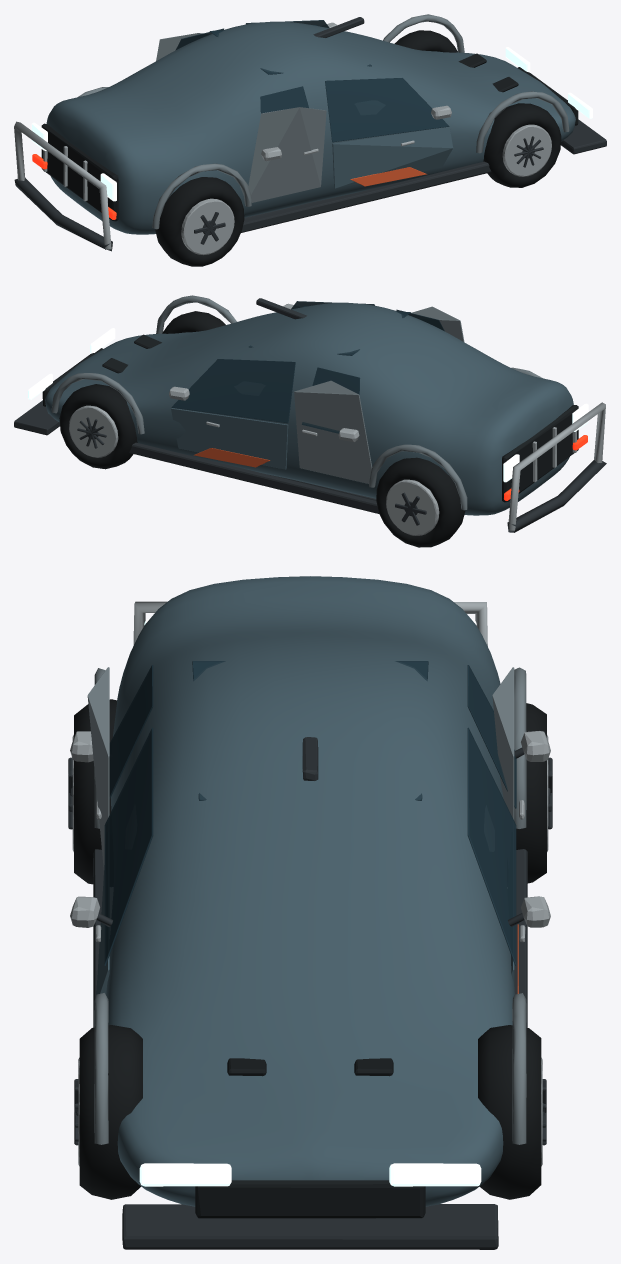
The model's file is deadbolt_blueprint_LOD1.glb.
3 renders of one model, top to bottom at view 1: azimuth 30°, elevation 25°; view 2: azimuth 150°, elevation 25°; view 3: azimuth 270°, elevation 25°, orthographic. The views are drawn at different scales.
Visible parts, largest first — view 1: Body_DeadboltUnifiedShell.001, Panel_TruckDoor_R.001, Glass_CoupeSide_R.001, Panel_CoupeDoor_R.001, Wheel_Truck_Tire_-1.001, Detail_Rocker_R.001, Wheel_Coupe_Tire_-1.001, Truck_Grille.001, Wheel_Truck_Rim_-1.001, Wheel_Coupe_Rim_-1.001, Truck_BrushGuard.001, Truck_Bumper.001 (+9 smaller); view 2: Body_DeadboltUnifiedShell.001, Panel_TruckDoor_L.001, Glass_CoupeSide_L.001, Panel_CoupeDoor_L.001, Wheel_Truck_Tire_+1.001, Detail_Rocker_L.001, Wheel_Coupe_Tire_+1.001, Truck_Grille.001, Wheel_Truck_Rim_+1.001, Truck_BrushGuard.001, Wheel_Coupe_Rim_+1.001, Truck_Bumper.001 (+9 smaller); view 3: Body_DeadboltUnifiedShell.001, Coupe_Splitter.001, Coupe_Grille.001, Wheel_Coupe_Tire_+1.001, Wheel_Coupe_Tire_-1.001, Glass_CoupeSide_R.001, Glass_CoupeSide_L.001, Wheel_Truck_Tire_-1.001, Wheel_Truck_Tire_+1.001, Panel_TruckDoor_R.001, Glass_TruckSide_R.001, Panel_TruckDoor_L.001 (+9 smaller).
Boxes of the visible parts, box(x1,y1,x2,y2) form: Body_DeadboltUnifiedShell.001: box(46, 21, 575, 234); Panel_TruckDoor_R.001: box(248, 107, 326, 202); Glass_CoupeSide_R.001: box(325, 78, 449, 142); Panel_CoupeDoor_R.001: box(332, 127, 453, 188); Wheel_Truck_Tire_-1.001: box(155, 177, 244, 266); Detail_Rocker_R.001: box(241, 161, 491, 232); Wheel_Coupe_Tire_-1.001: box(483, 103, 561, 187); Truck_Grille.001: box(41, 123, 118, 221); Wheel_Truck_Rim_-1.001: box(181, 198, 234, 255); Wheel_Coupe_Rim_-1.001: box(502, 124, 551, 176); Truck_BrushGuard.001: box(14, 121, 111, 249); Truck_Bumper.001: box(14, 178, 112, 251); Body_DeadboltUnifiedShell.001: box(45, 302, 573, 515); Panel_TruckDoor_L.001: box(294, 380, 372, 483); Glass_CoupeSide_L.001: box(171, 359, 295, 423); Panel_CoupeDoor_L.001: box(171, 408, 288, 469); Wheel_Truck_Tire_+1.001: box(376, 457, 465, 547); Detail_Rocker_L.001: box(129, 442, 379, 513); Wheel_Coupe_Tire_+1.001: box(59, 384, 137, 469); Truck_Grille.001: box(502, 405, 578, 502); Wheel_Truck_Rim_+1.001: box(386, 479, 439, 535); Truck_BrushGuard.001: box(508, 402, 605, 530); Wheel_Coupe_Rim_+1.001: box(69, 405, 118, 457); Truck_Bumper.001: box(507, 460, 606, 532); Body_DeadboltUnifiedShell.001: box(106, 576, 514, 1206); Coupe_Splitter.001: box(122, 1204, 498, 1249); Coupe_Grille.001: box(195, 1180, 425, 1218); Wheel_Coupe_Tire_+1.001: box(478, 1025, 541, 1199); Wheel_Coupe_Tire_-1.001: box(79, 1025, 142, 1199); Glass_CoupeSide_R.001: box(104, 727, 153, 965); Glass_CoupeSide_L.001: box(467, 727, 516, 965); Wheel_Truck_Tire_-1.001: box(74, 699, 116, 884); Wheel_Truck_Tire_+1.001: box(516, 703, 546, 883); Panel_TruckDoor_R.001: box(87, 667, 109, 869); Glass_TruckSide_R.001: box(109, 665, 153, 799); Panel_TruckDoor_L.001: box(492, 667, 514, 820).
Bounding box in the file's own units: 5.34 × 1.6 × 2.21.
